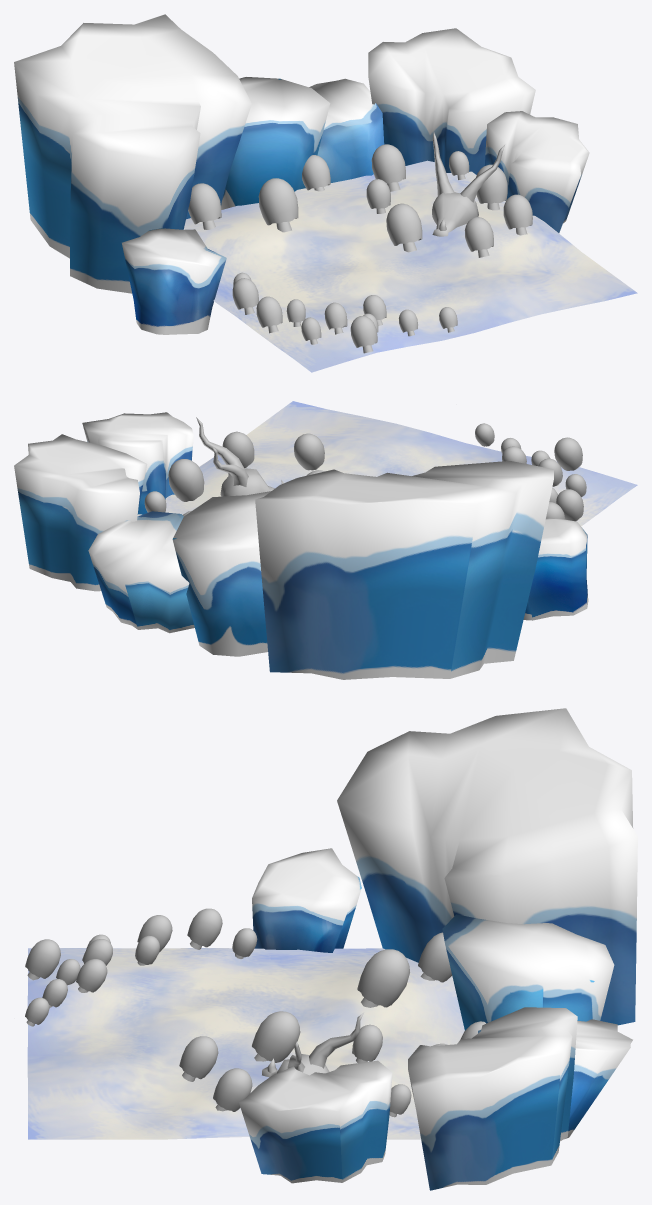
File: Map_1_C_2.FBX
The picture shows the model from 3 angles, top to bottom: view 1: azimuth 30°, elevation 25°; view 2: azimuth 150°, elevation 25°; view 3: azimuth 270°, elevation 25°; orthographic projection. The views are drawn at different scales.
Parts seen in each view (by area): view 1: Iceberg018, tereno1, Iceberg011, Iceberg009, Iceberg014, Iceberg016, Iceberg017, Animal bones002, Icethree028, Icethree036, Icethree047, Icethree037 (+9 smaller); view 2: Iceberg018, tereno1, Iceberg011, Iceberg009, Iceberg017, Iceberg016, Iceberg014, Animal bones002, Icethree043, Icethree042, Icethree049, Icethree046 (+2 smaller); view 3: Iceberg018, tereno1, Iceberg011, Iceberg016, Iceberg009, Iceberg014, Iceberg017, Icethree028, Icethree036, Animal bones002, Icethree042, Icethree046 (+6 smaller).
Part boxes in pixels (x1=…): Iceberg018: x1=14, y1=14, x2=251, y2=293; tereno1: x1=183, y1=160, x2=637, y2=372; Iceberg011: x1=368, y1=28, x2=535, y2=174; Iceberg009: x1=221, y1=77, x2=330, y2=209; Iceberg014: x1=122, y1=228, x2=226, y2=334; Iceberg016: x1=484, y1=111, x2=589, y2=232; Iceberg017: x1=309, y1=78, x2=384, y2=182; Animal bones002: x1=432, y1=131, x2=504, y2=236; Icethree028: x1=258, y1=178, x2=298, y2=232; Icethree036: x1=386, y1=203, x2=422, y2=252; Icethree047: x1=371, y1=144, x2=405, y2=191; Icethree037: x1=188, y1=183, x2=221, y2=229; Iceberg018: x1=255, y1=461, x2=553, y2=679; tereno1: x1=137, y1=401, x2=637, y2=526; Iceberg011: x1=14, y1=434, x2=147, y2=591; Iceberg009: x1=172, y1=491, x2=271, y2=656; Iceberg017: x1=88, y1=511, x2=194, y2=633; Iceberg016: x1=82, y1=412, x2=193, y2=514; Iceberg014: x1=523, y1=518, x2=588, y2=620; Animal bones002: x1=196, y1=417, x2=283, y2=496; Icethree043: x1=168, y1=459, x2=204, y2=501; Icethree042: x1=294, y1=433, x2=324, y2=470; Icethree049: x1=554, y1=437, x2=582, y2=470; Icethree046: x1=222, y1=431, x2=254, y2=467; Iceberg018: x1=337, y1=708, x2=637, y2=1025; tereno1: x1=27, y1=948, x2=464, y2=1139; Iceberg011: x1=408, y1=1007, x2=577, y2=1190; Iceberg016: x1=239, y1=1060, x2=392, y2=1183; Iceberg009: x1=442, y1=914, x2=614, y2=1030; Iceberg014: x1=252, y1=848, x2=361, y2=952; Iceberg017: x1=478, y1=1019, x2=632, y2=1138; Icethree028: x1=357, y1=949, x2=409, y2=1007; Icethree036: x1=252, y1=1011, x2=300, y2=1062; Animal bones002: x1=262, y1=1012, x2=364, y2=1077; Icethree042: x1=179, y1=1036, x2=218, y2=1081; Icethree046: x1=213, y1=1068, x2=252, y2=1111.
Bounding box in the file's own units: 729 × 296 × 690.
